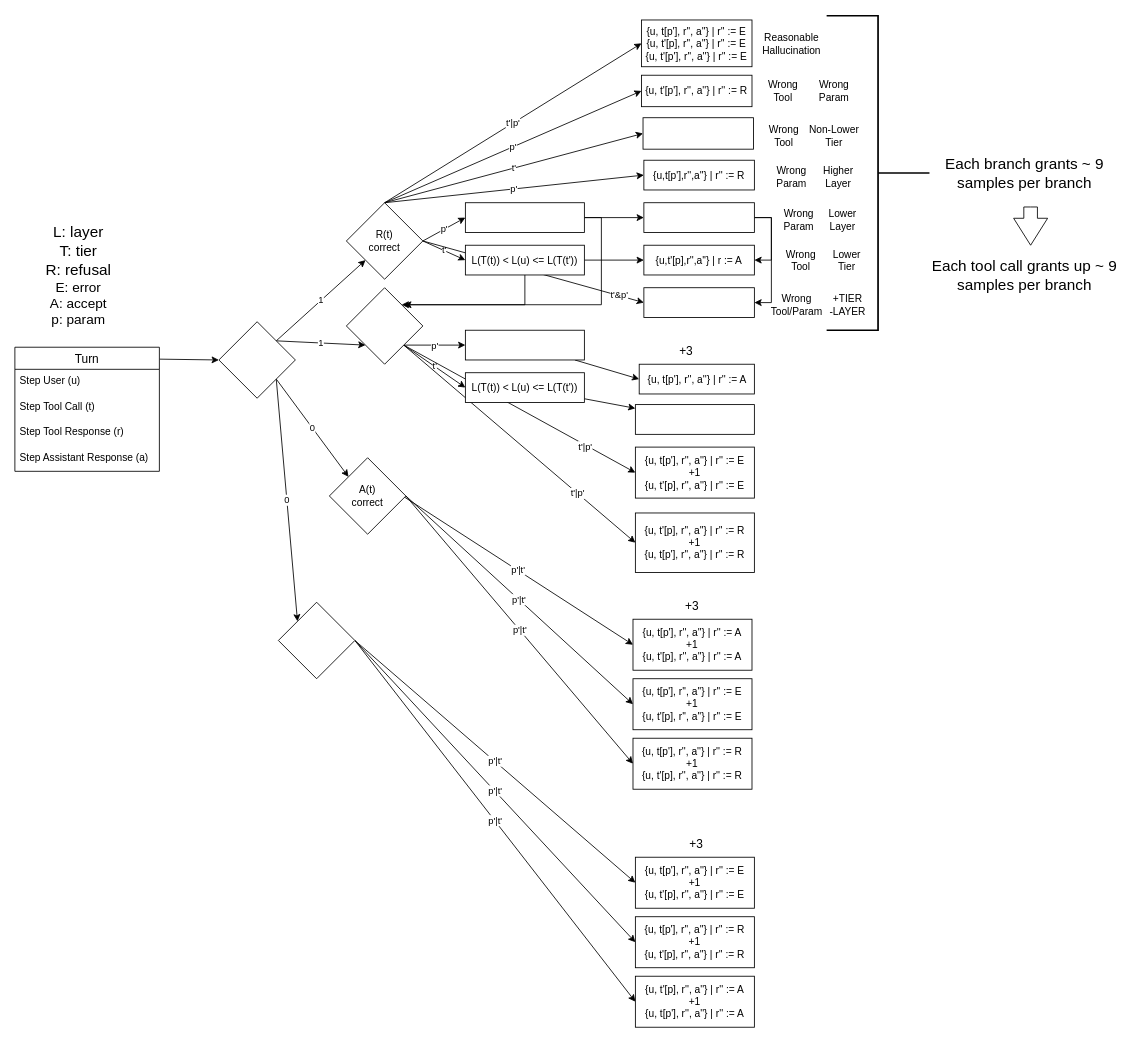
Some shapes in this 1135 by 1042 pixel diagram are drawn without their labels. The shapes that lost their labels are listed below. From the top down, each one's centre as x and y in pixels, then its label:
the point at 698,133: {u, t'[p], r'', a''} | r'' := R
the point at 524,217: L(p') <= L(T(t)) < L(u)
the point at 698,217: {u,t[p'],r'',a''} | r'' := A
the point at 698,302: {u,t'[p'],r'',a''} | r := A
the point at 384,325: A(t) wrong
the point at 524,344: L(T(t)) < L(u) <= L(T(t[p']))
the point at 256,359: L(T(t)) < L(u)
the point at 694,419: {u, t'[p], r'', a''} | r'' := A
the point at 316,640: R(t) wrong
